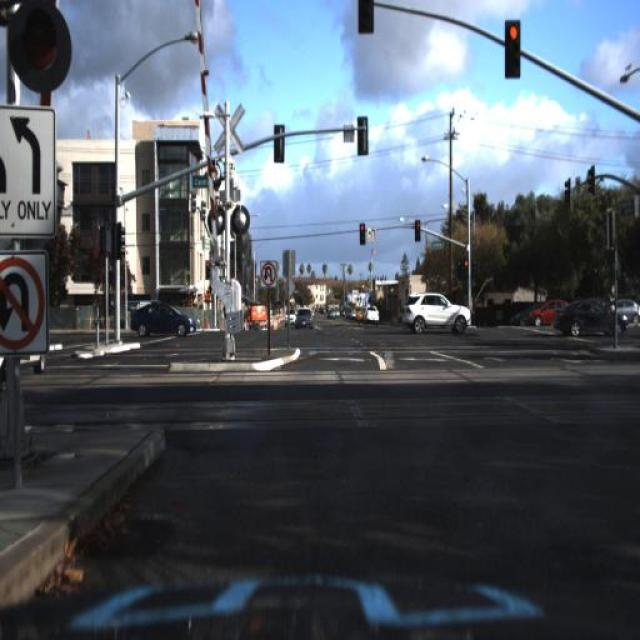car: (396, 280, 475, 338), (121, 296, 198, 340), (552, 301, 628, 337), (526, 300, 569, 328), (293, 305, 315, 336), (362, 296, 383, 326), (281, 305, 295, 335), (324, 300, 340, 322)
trafficLight-Green: (8, 0, 70, 91), (357, 1, 374, 33)
trafficLight-RedLeft: (503, 15, 522, 84), (412, 212, 423, 246), (461, 249, 472, 281), (356, 218, 366, 248)
